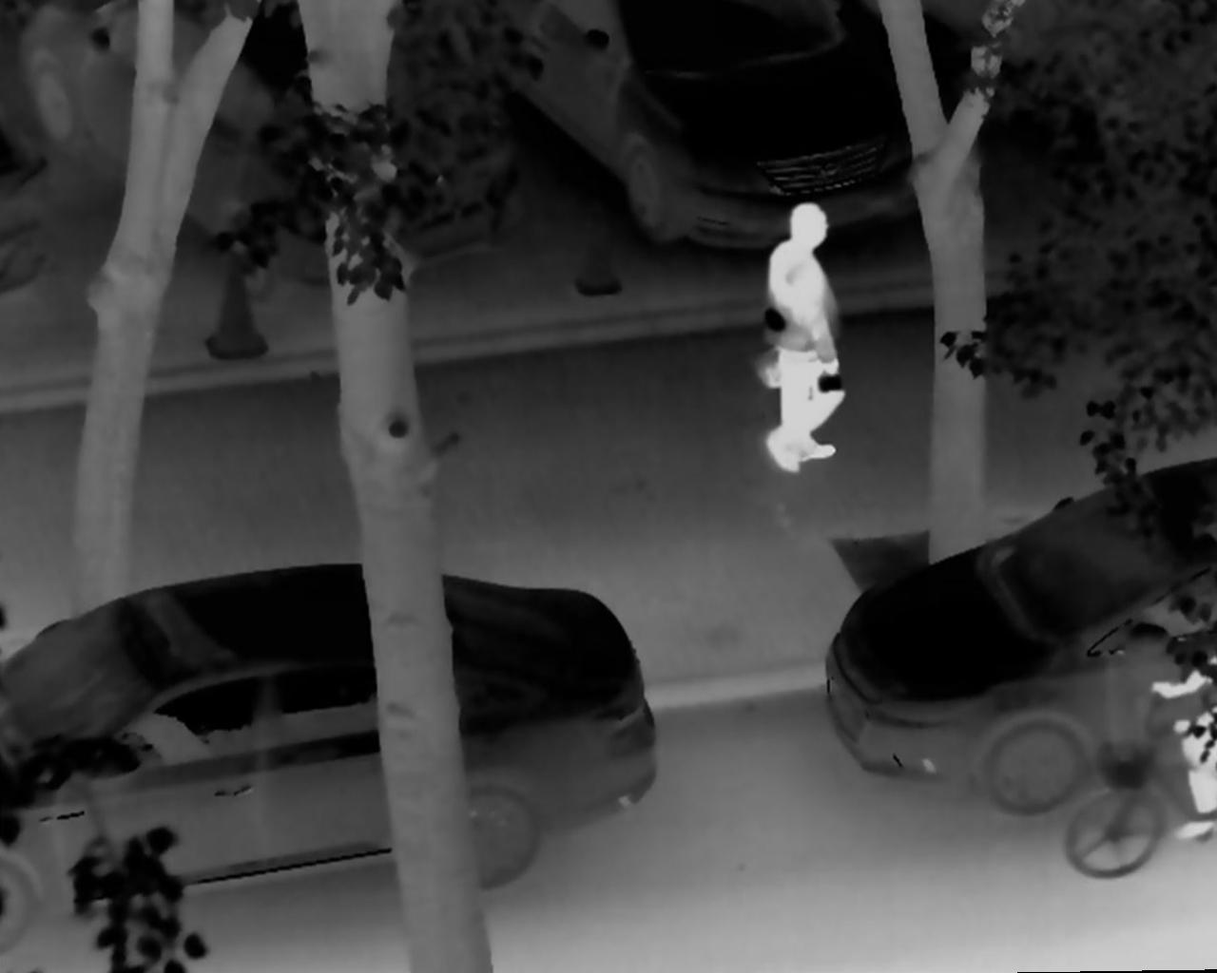person: (755, 204, 848, 474), (1156, 611, 1217, 847)
